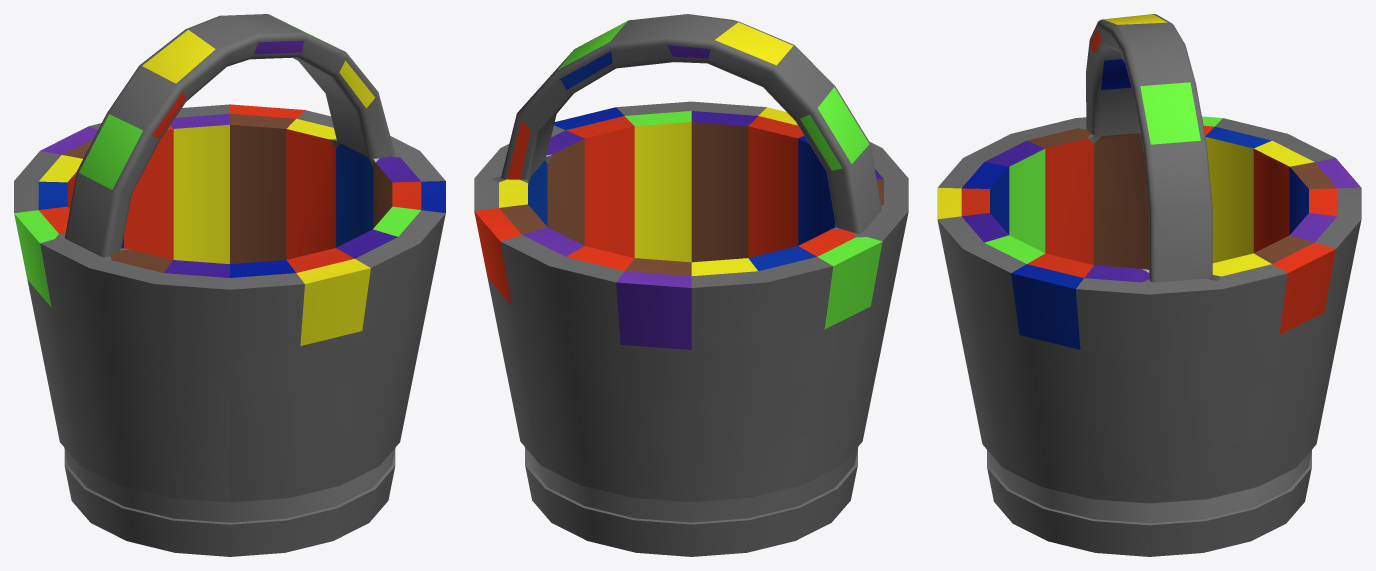
Rendered from Cubosucio.fbx.
3 views of the same model, side by side, from view 1: azimuth 30°, elevation 25°; view 2: azimuth 150°, elevation 25°; view 3: azimuth 270°, elevation 25° (orthographic). The views are drawn at different scales.
Visible parts, largest first — view 1: CuboSucio; view 2: CuboSucio; view 3: CuboSucio.
Boxes of the visible parts, box(x1,y1,x2,y2) form: CuboSucio: box(14, 14, 445, 556); CuboSucio: box(474, 14, 908, 556); CuboSucio: box(937, 14, 1361, 556).
Size of the model in its own units: 6.88 by 7.97 by 6.77.
